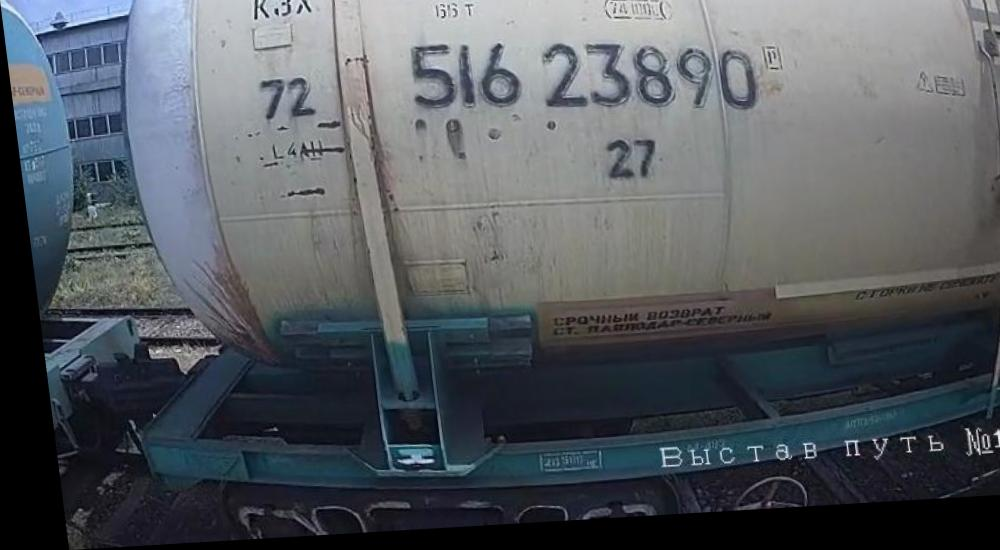Wagon-number: (400, 28, 763, 140)
